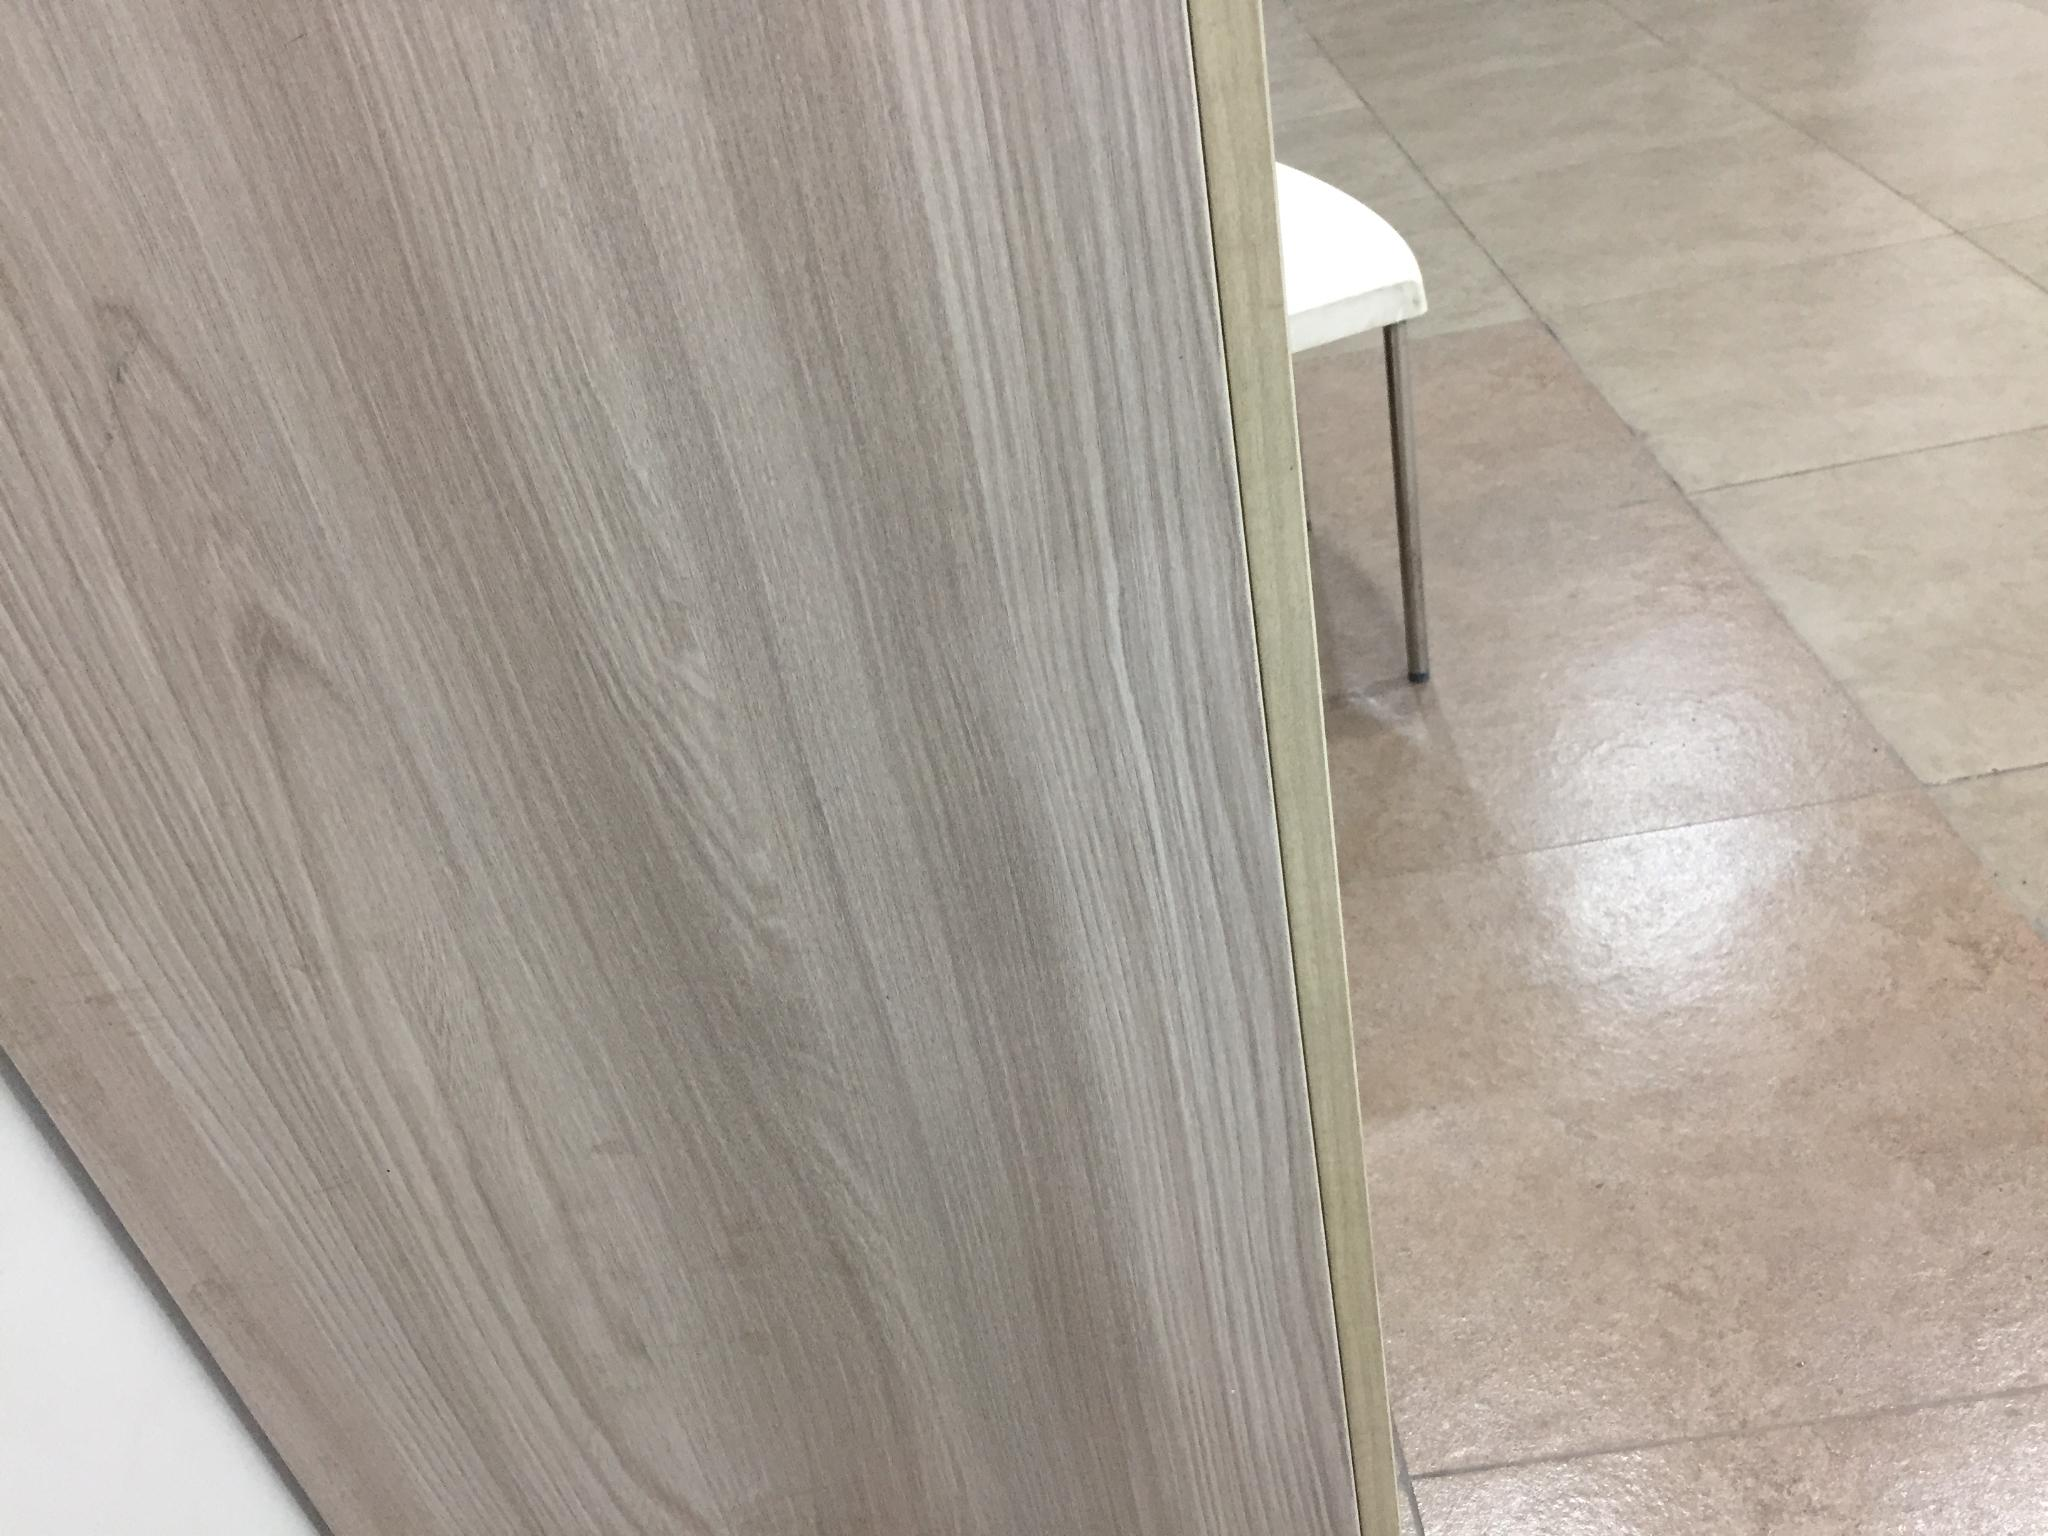chair: (1272, 158, 1430, 684)
